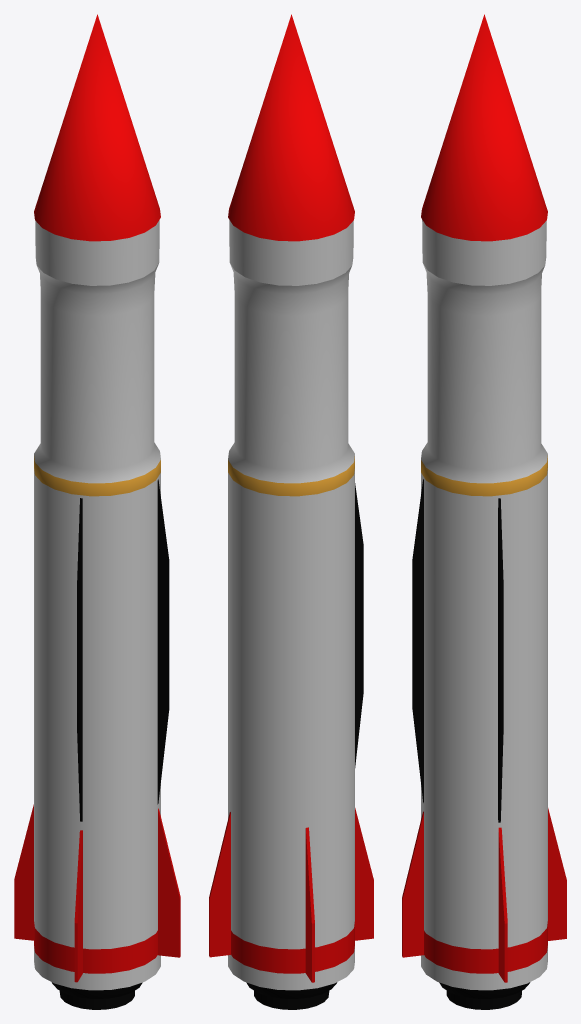
Rendered from missile_New.fbx.
3 renders of one model, left to right at view 1: azimuth 30°, elevation 25°; view 2: azimuth 150°, elevation 25°; view 3: azimuth 330°, elevation 25°, orthographic.
Visible parts, largest first — view 1: missile; view 2: missile; view 3: missile.
Part boxes in pixels (x1,y1,x2,y2): missile: (14,14,180,1009); missile: (209,14,373,1009); missile: (402,14,566,1009).
Bounding box in the file's own units: 2 × 16.92 × 2.
